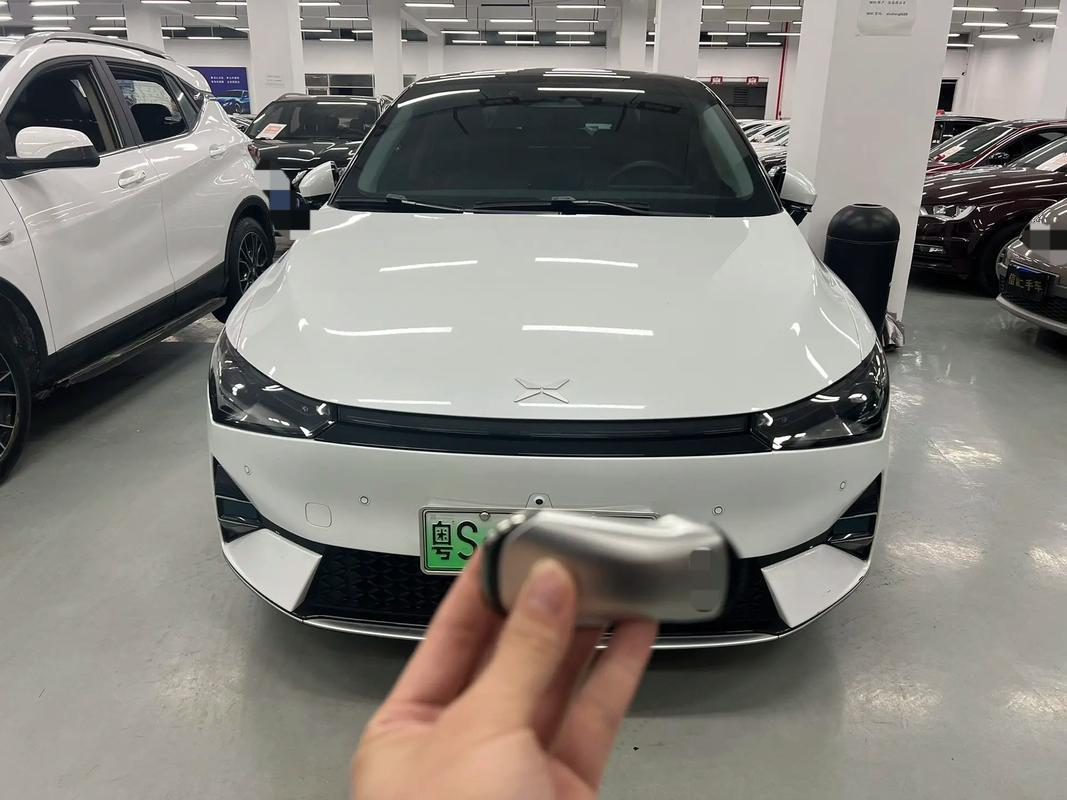XPeng Motors: (515, 380, 569, 403)
